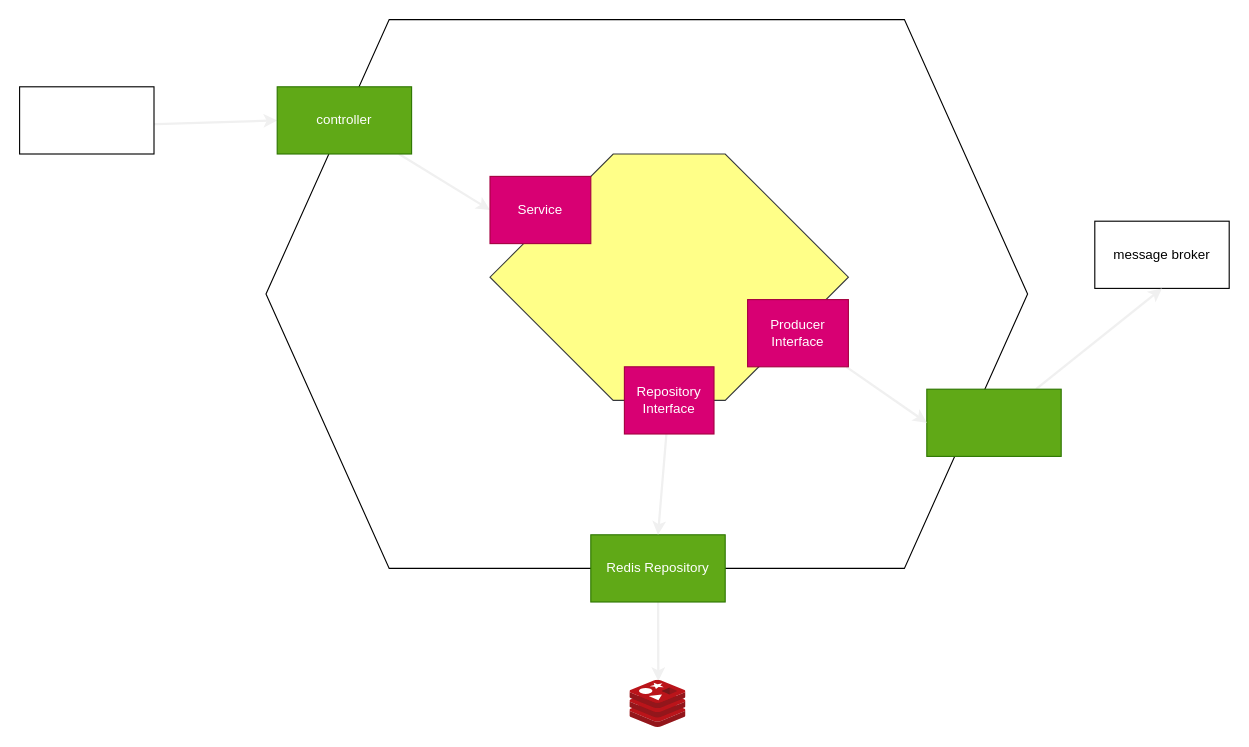
This 1249x747 diagram has some shape labels left out. The shapes that lost their labels are listed below. From the top down, each one's box as (x1, y1, x2, y2) in pixels, then its label:
(18, 86, 154, 154): client
(489, 153, 848, 400): bussiness logic
(926, 388, 1061, 456): Kafka producer
